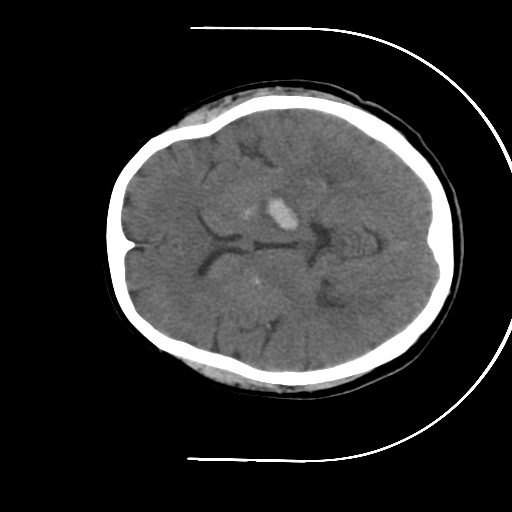a: (244, 178, 311, 246)
